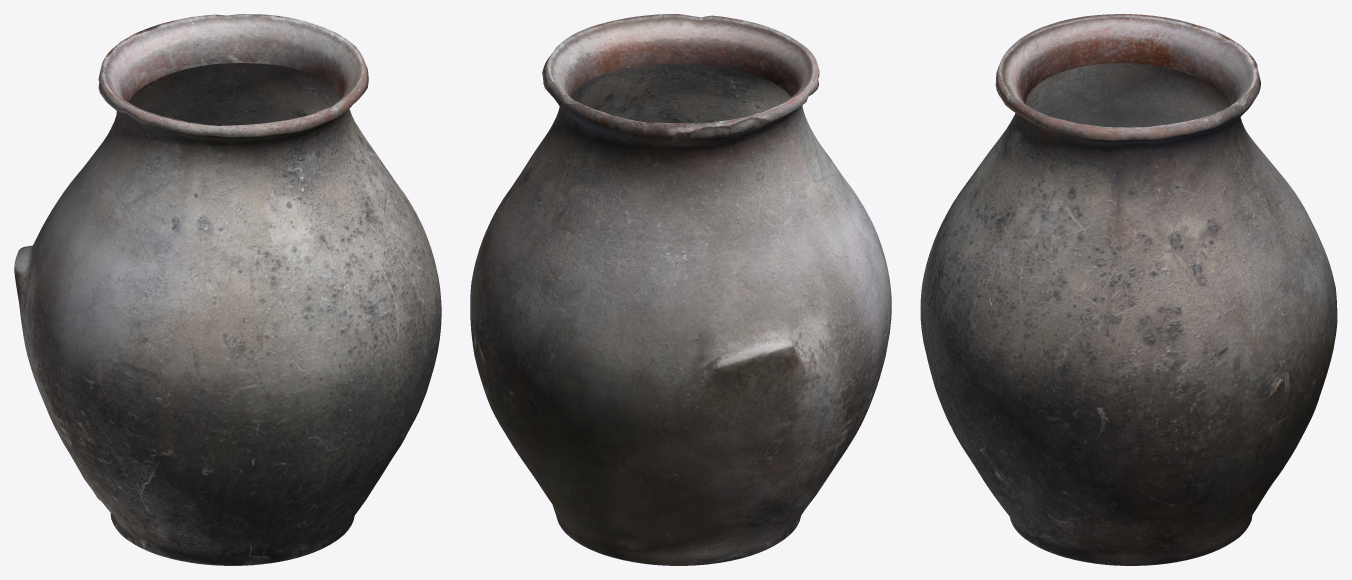
Rendered from pot_scan_01.glb.
3 views of the same model, side by side, from view 1: azimuth 30°, elevation 25°; view 2: azimuth 150°, elevation 25°; view 3: azimuth 270°, elevation 25° (orthographic).
Visible parts, largest first — view 1: OldPot; view 2: OldPot; view 3: OldPot.
Part boxes in pixels (x1=…): OldPot: x1=14, y1=14, x2=441, y2=565; OldPot: x1=470, y1=14, x2=891, y2=565; OldPot: x1=920, y1=14, x2=1337, y2=565.
Size of the model in its own units: 0.6508 by 0.7629 by 0.6489.
1 material, 1 textured.
